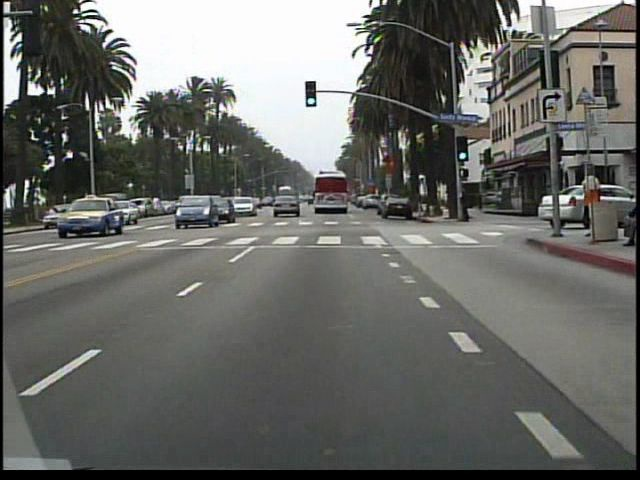person: (578, 167, 601, 233), (456, 183, 472, 227)
